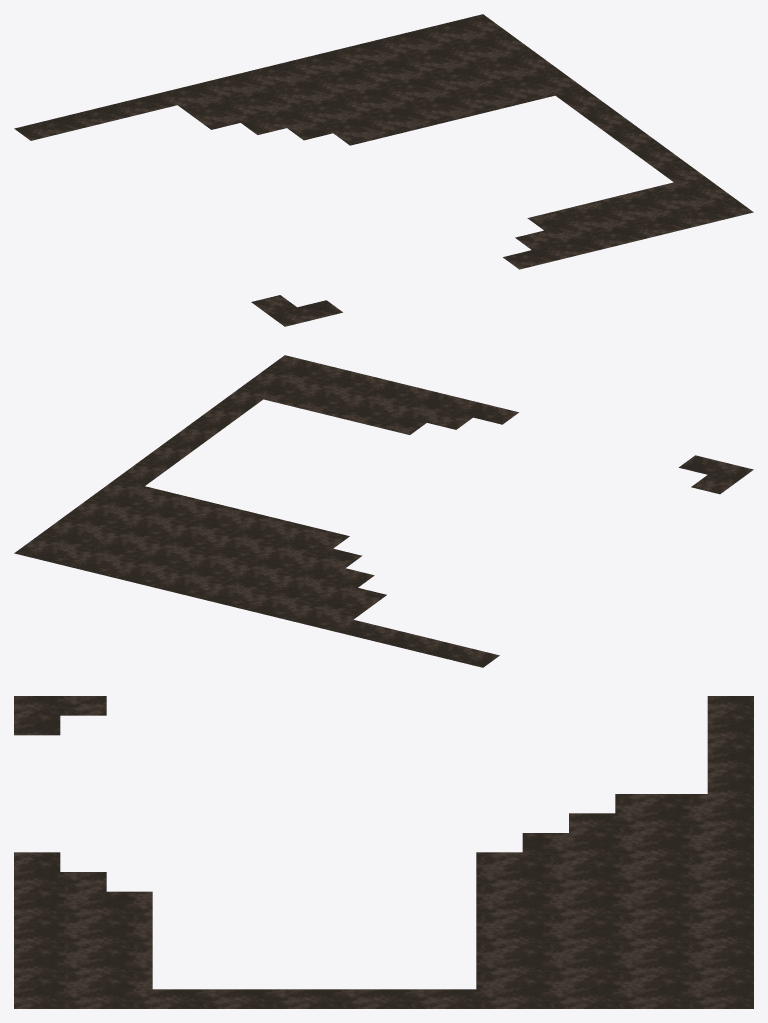
File: floor_-1_-2.glb
The picture shows the model from 3 angles, top to bottom: view 1: azimuth 30°, elevation 25°; view 2: azimuth 150°, elevation 25°; view 3: azimuth 270°, elevation 25°; orthographic projection. The views are drawn at different scales.
Visible parts, largest first — view 1: floor_-1_-2; view 2: floor_-1_-2; view 3: floor_-1_-2.
Boxes of the visible parts, x1,y1,x2,y2 form: floor_-1_-2: (14, 14, 753, 326); floor_-1_-2: (14, 355, 753, 667); floor_-1_-2: (14, 696, 753, 1008).
Bounding box in the file's own units: 64 × 0 × 64.
Materials: 1 (1 with a texture image).
